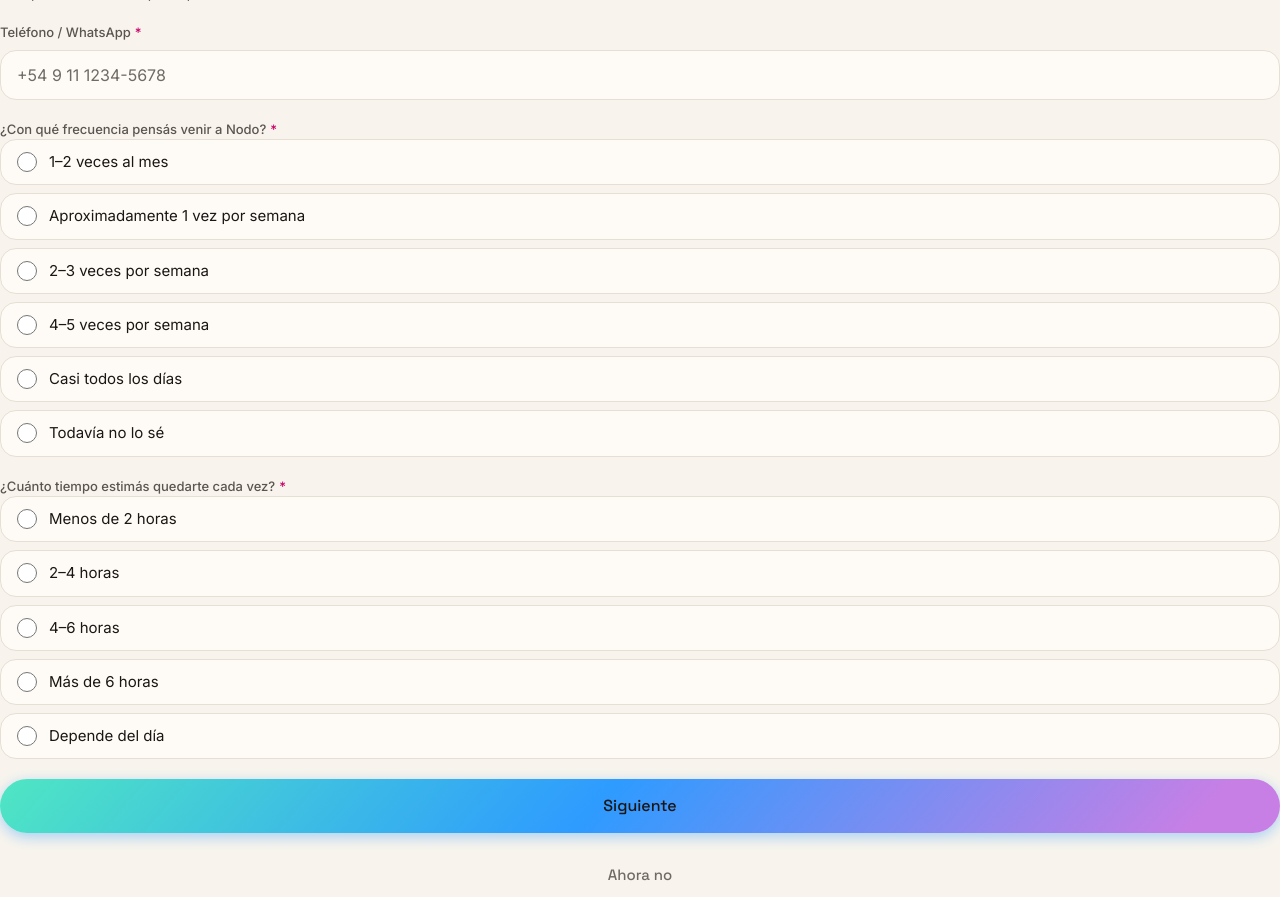
it: SolicitarForm — multi-step (ZER-109) › blocks step 1 advance when core fields are empty
(page scrolled)
Click the button "Siguiente" at (640, 806), box [0,779,1279,833]
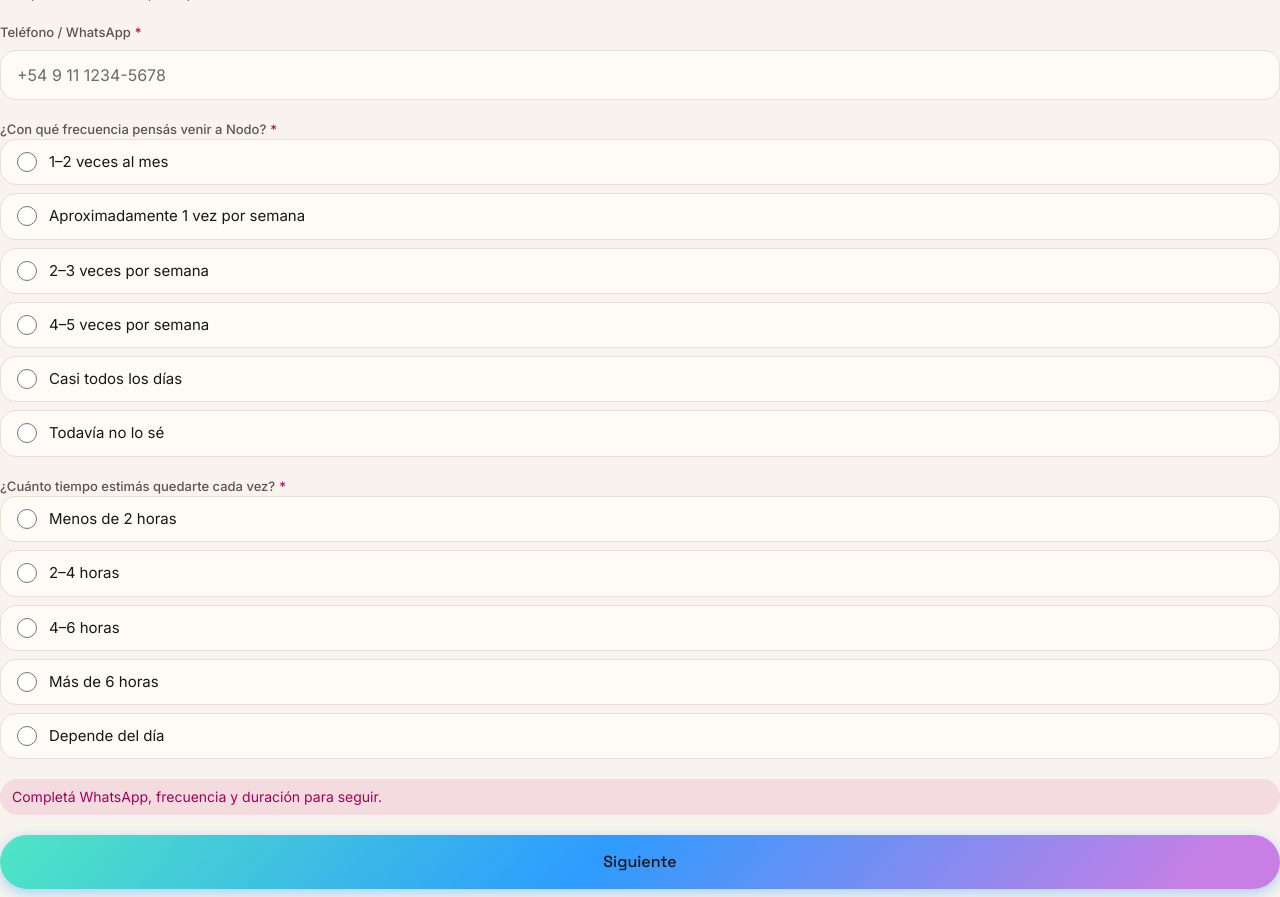
Check: the button "Siguiente" is shown, box [0,835,1279,889]
Check: the message shows "WhatsApp, frecuencia y duración", box [12,788,382,805]
